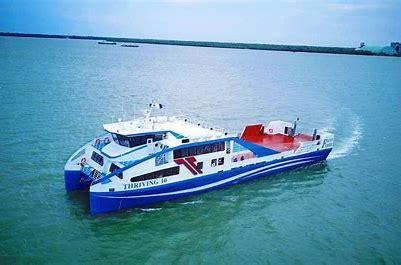Ship: (65, 116, 335, 216)
